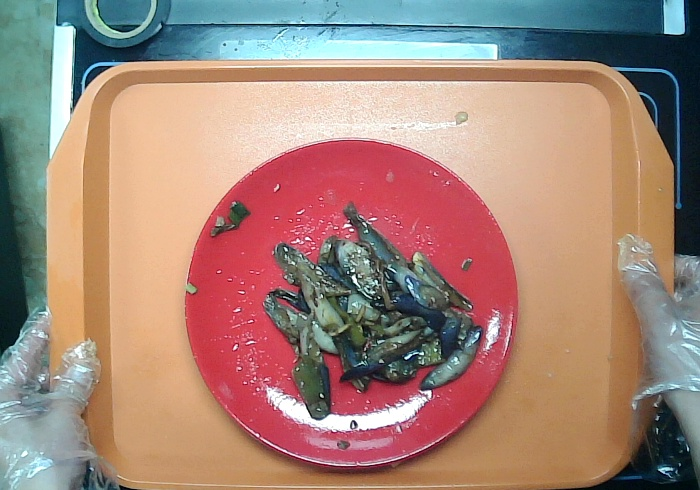HZYJPL-Hong_Se_Yuan_Pan: (173, 123, 525, 481)
